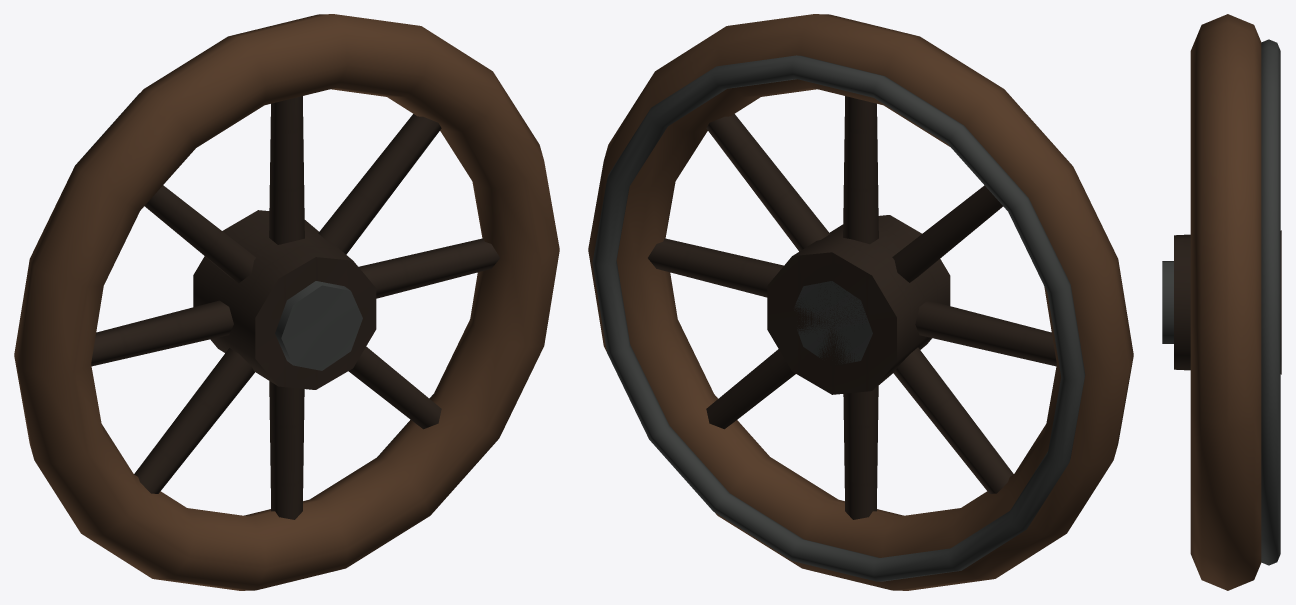
Rendered from sk-wagon-wheel.glb.
3 renders of one model, left to right at view 1: azimuth 30°, elevation 25°; view 2: azimuth 150°, elevation 25°; view 3: azimuth 270°, elevation 25°, orthographic. The views are drawn at different scales.
Parts seen in each view (by area): view 1: wagon-wheel-rim, settlement:wagon_wheel-static-wood, settlement:wagon_wheel-static-metal; view 2: wagon-wheel-rim, settlement:wagon_wheel-static-wood, settlement:wagon_wheel-static-metal; view 3: wagon-wheel-rim, settlement:wagon_wheel-static-metal, settlement:wagon_wheel-static-wood.
Part boxes in pixels (x1=…): wagon-wheel-rim: x1=14, y1=14, x2=559, y2=590; settlement:wagon_wheel-static-wood: x1=91, y1=96, x2=499, y2=519; settlement:wagon_wheel-static-metal: x1=33, y1=93, x2=465, y2=456; wagon-wheel-rim: x1=588, y1=14, x2=1133, y2=590; settlement:wagon_wheel-static-wood: x1=648, y1=96, x2=1056, y2=519; settlement:wagon_wheel-static-metal: x1=592, y1=55, x2=1085, y2=581; wagon-wheel-rim: x1=1190, y1=14, x2=1261, y2=590; settlement:wagon_wheel-static-metal: x1=1162, y1=39, x2=1280, y2=565; settlement:wagon_wheel-static-wood: x1=1174, y1=230, x2=1281, y2=374.
Bounding box in the file's own units: 0.592 × 0.583 × 0.122.
Materials: 3 (3 with a texture image).
